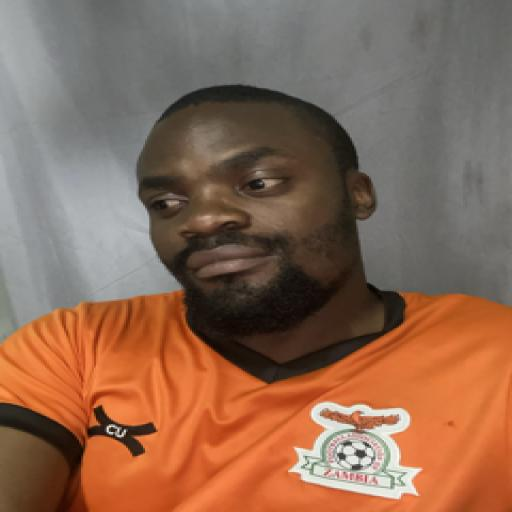JEANLUC: (132, 90, 385, 335)
